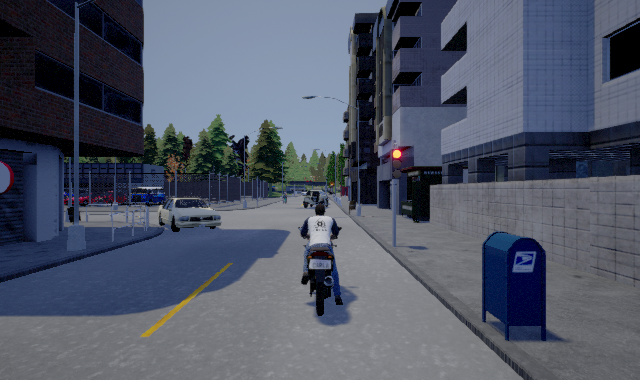motobike: (296, 206, 345, 317)
traffic_light: (390, 143, 402, 185)
traffic_sign: (1, 161, 14, 195)
vehicle: (157, 196, 222, 232), (302, 189, 329, 208)
